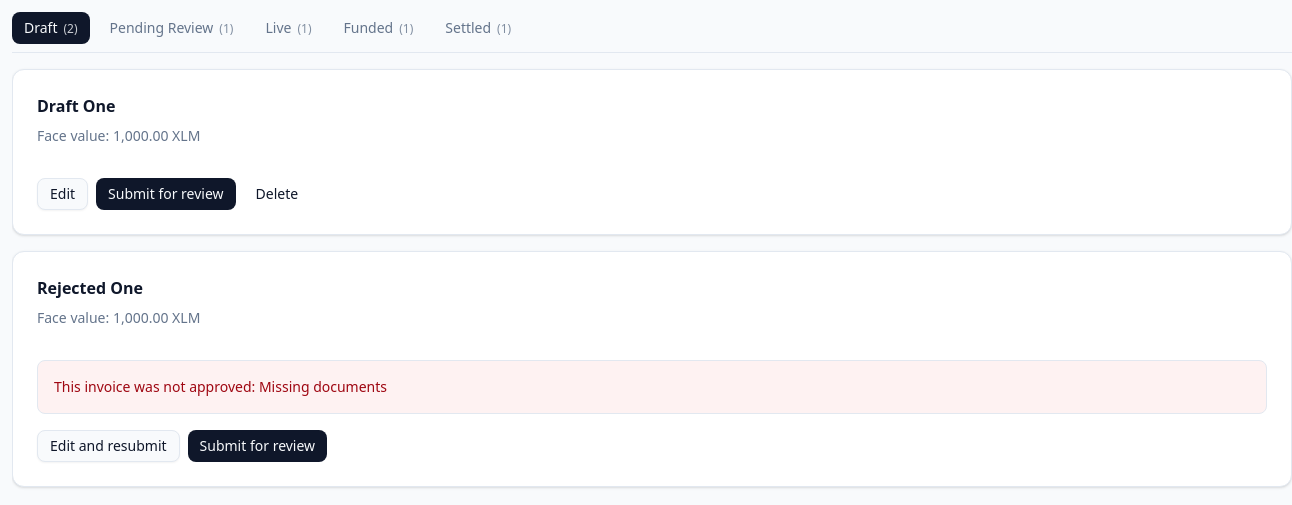
Scenario: tab rendering › switches the visible invoices when a tab is selected
Click the tab "Live(1)" at (289, 28), box [254,12,324,44]
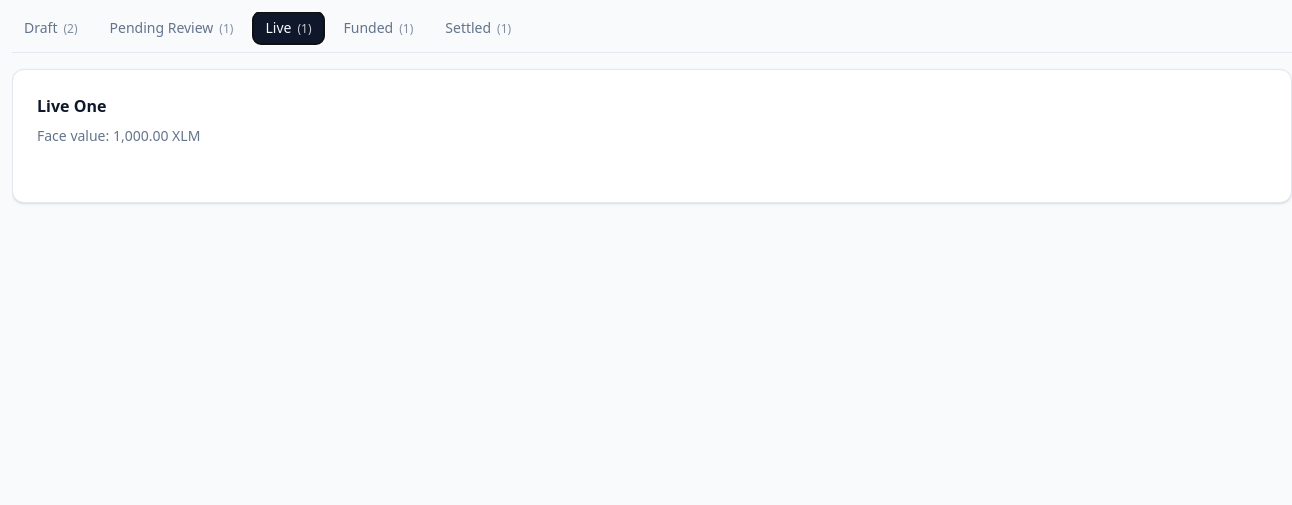
expect the heading "Live One" is shown: met, box [37,94,106,118]
expect the heading "Draft One" is gone: met
